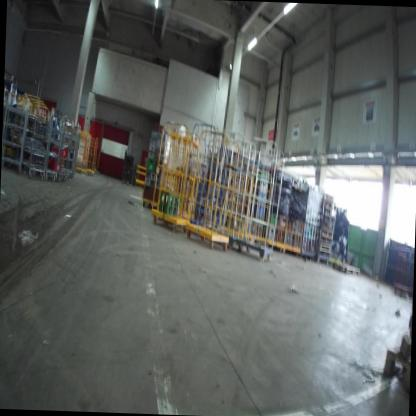pallet: (380, 338, 410, 392), (330, 258, 362, 277)
pallet_truck: (122, 146, 136, 188)
small_load_carrier: (45, 155, 70, 175), (51, 145, 69, 159)
